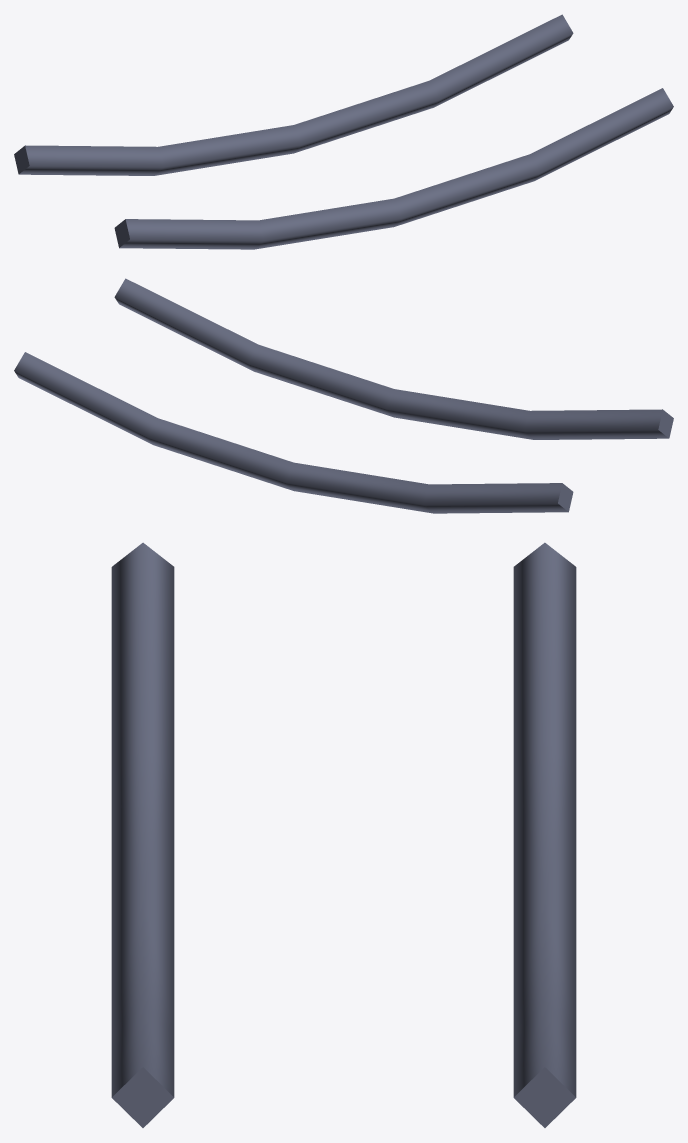
File: electricity-wires.glb
The picture shows the model from 3 angles, top to bottom: view 1: azimuth 30°, elevation 25°; view 2: azimuth 150°, elevation 25°; view 3: azimuth 270°, elevation 25°; orthographic projection. The views are drawn at different scales.
Parts seen in each view (by area): view 1: electricity-wires; view 2: electricity-wires; view 3: electricity-wires.
Part boxes in pixels (x1,y1,x2,y2): electricity-wires: (14,14,673,249); electricity-wires: (14,278,673,513); electricity-wires: (111,542,576,1127).
Size of the model in its own units: 0.5059 by 0.0647 by 0.185.
Materials: 1 (1 with a texture image).
